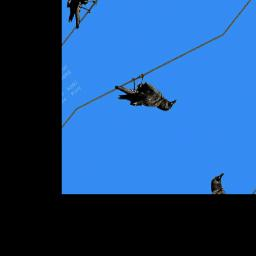Crow: (111, 57, 180, 135)
